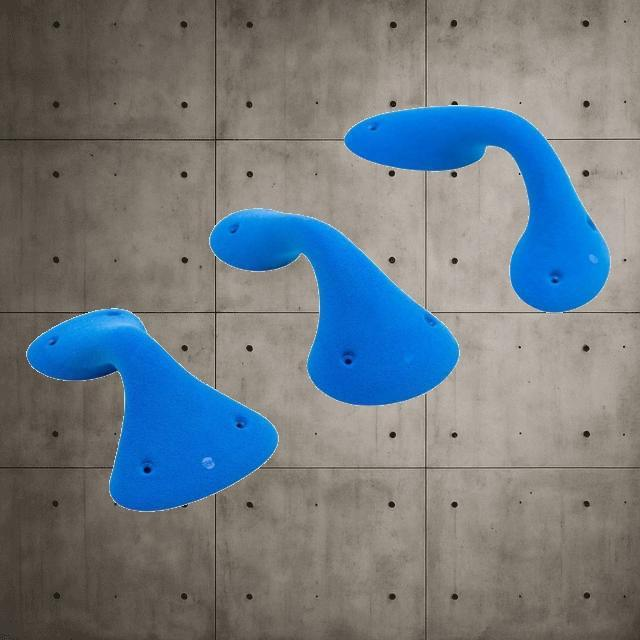Jug: (342, 104, 610, 312), (25, 306, 278, 512), (208, 206, 460, 406)
